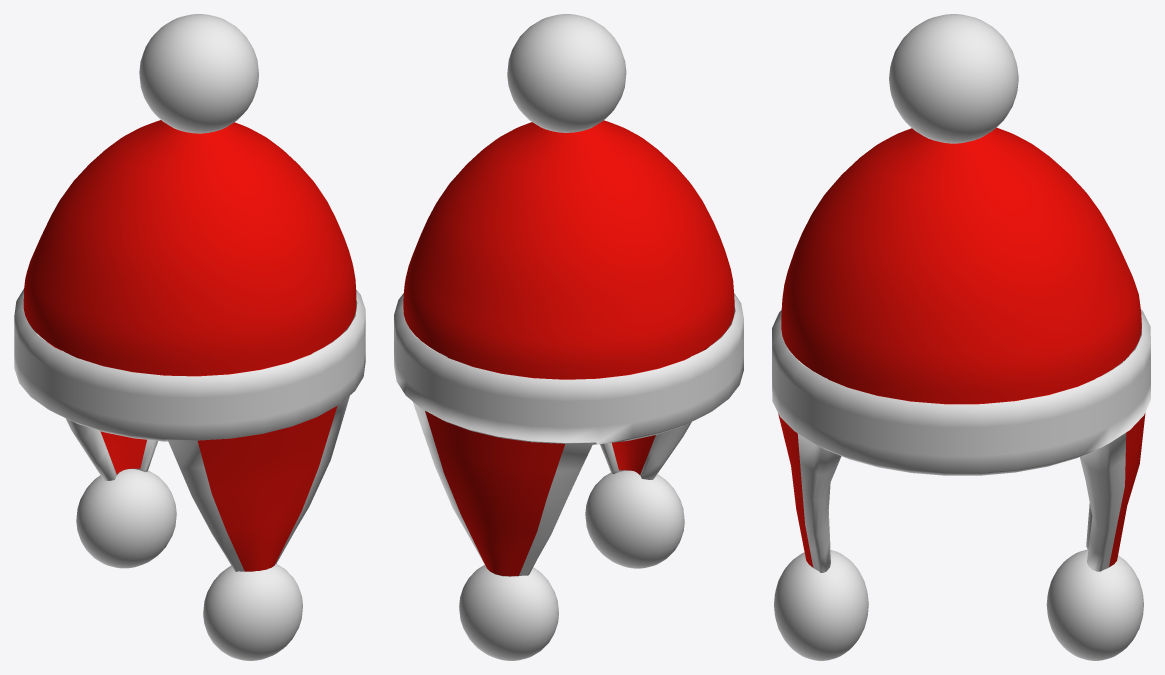
The model's file is hat-2.glb.
3 renders of one model, left to right at view 1: azimuth 30°, elevation 25°; view 2: azimuth 150°, elevation 25°; view 3: azimuth 270°, elevation 25°, orthographic. The views are drawn at different scales.
Parts seen in each view (by area): view 1: Circle.004, Circle.003, Circle.002, Sphere.001, Sphere.002, Sphere.003; view 2: Circle.004, Circle.003, Circle.002, Sphere.001, Sphere.003, Sphere.002; view 3: Circle.004, Circle.003, Sphere.001, Sphere.002, Sphere.003, Circle.002.
Part boxes in pixels (left/top/right/bottom): Circle.004: left=23, top=120, right=356, bottom=375; Circle.003: left=14, top=289, right=365, bottom=571; Circle.002: left=47, top=342, right=337, bottom=571; Sphere.001: left=139, top=14, right=258, bottom=133; Sphere.002: left=76, top=469, right=176, bottom=568; Sphere.003: left=203, top=564, right=302, bottom=660; Circle.004: left=403, top=120, right=734, bottom=379; Circle.003: left=394, top=293, right=743, bottom=576; Circle.002: left=425, top=347, right=708, bottom=576; Sphere.001: left=507, top=14, right=626, bottom=132; Sphere.003: left=585, top=470, right=684, bottom=568; Sphere.002: left=459, top=565, right=558, bottom=660; Circle.004: left=781, top=127, right=1141, bottom=403; Circle.003: left=772, top=309, right=1150, bottom=572; Sphere.001: left=889, top=14, right=1018, bottom=143; Sphere.002: left=1046, top=549, right=1143, bottom=660; Sphere.003: left=774, top=550, right=868, bottom=660; Circle.002: left=778, top=359, right=1145, bottom=567.
Bounding box in the file's own units: 398 × 742 × 398.
